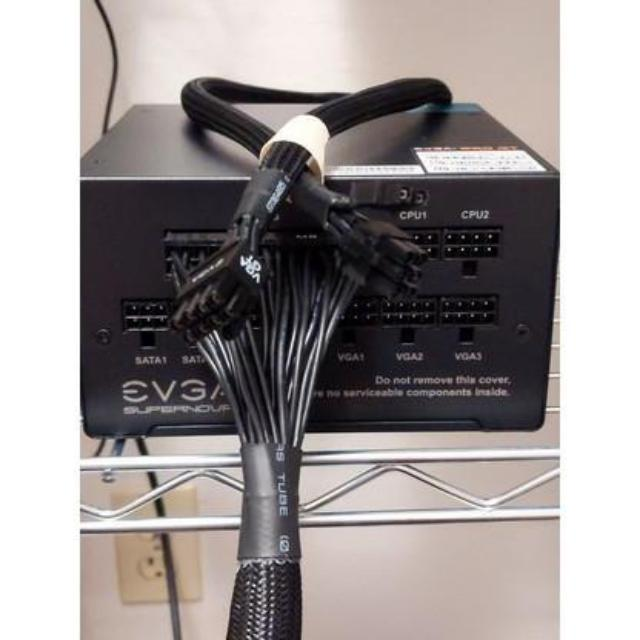PSU: (80, 82, 562, 456)
